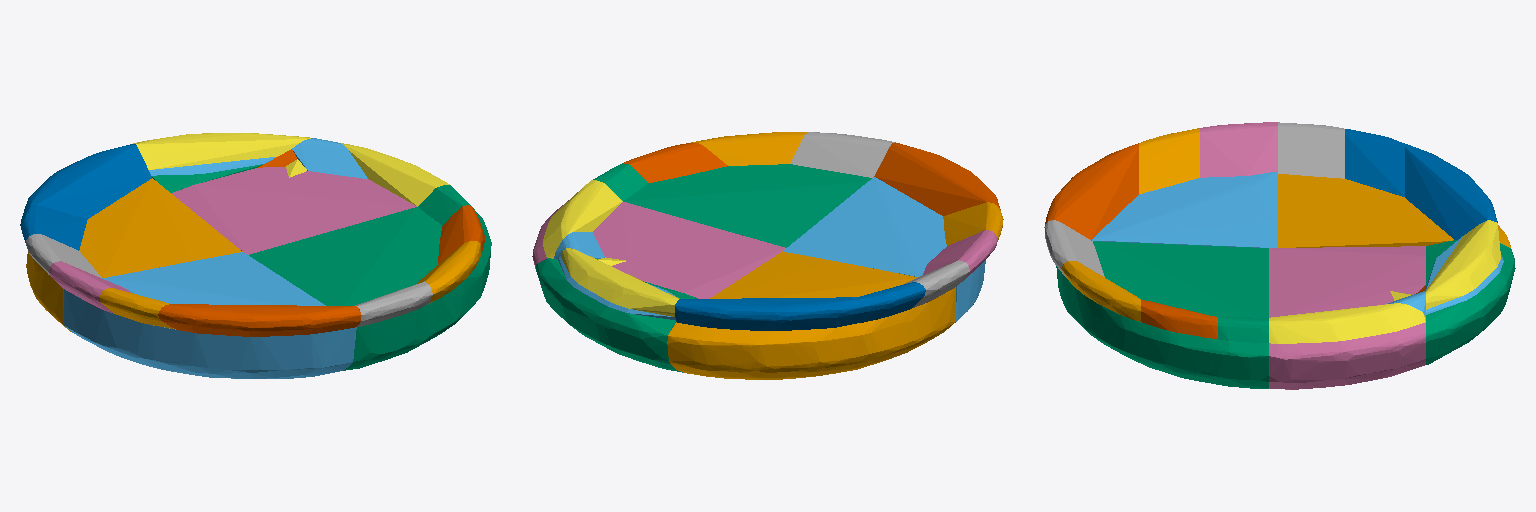
robot.urdf — root:
<?xml version='1.0' encoding='UTF-8'?>
<robot name="root">
  <link name="link_convex_piece_000.obj">
    <inertial>
      <origin xyz="0 0 0" rpy="0 0 0"/>
    </inertial>
    <visual>
      <origin xyz="0 0 0" rpy="0 0 0"/>
      <geometry>
        <mesh filename="meshes/convex_piece_000.obj" scale="1.0 1.0 1.0"/>
      </geometry>
    </visual>
    <collision>
      <origin xyz="0 0 0" rpy="0 0 0"/>
      <geometry>
        <mesh filename="meshes/convex_piece_000.obj" scale="1.0 1.0 1.0"/>
      </geometry>
    </collision>
  </link>
  <link name="link_convex_piece_001.obj">
    <inertial>
      <origin xyz="0 0 0" rpy="0 0 0"/>
    </inertial>
    <visual>
      <origin xyz="0 0 0" rpy="0 0 0"/>
      <geometry>
        <mesh filename="meshes/convex_piece_001.obj" scale="1.0 1.0 1.0"/>
      </geometry>
    </visual>
    <collision>
      <origin xyz="0 0 0" rpy="0 0 0"/>
      <geometry>
        <mesh filename="meshes/convex_piece_001.obj" scale="1.0 1.0 1.0"/>
      </geometry>
    </collision>
  </link>
  <link name="link_convex_piece_002.obj">
    <inertial>
      <origin xyz="0 0 0" rpy="0 0 0"/>
    </inertial>
    <visual>
      <origin xyz="0 0 0" rpy="0 0 0"/>
      <geometry>
        <mesh filename="meshes/convex_piece_002.obj" scale="1.0 1.0 1.0"/>
      </geometry>
    </visual>
    <collision>
      <origin xyz="0 0 0" rpy="0 0 0"/>
      <geometry>
        <mesh filename="meshes/convex_piece_002.obj" scale="1.0 1.0 1.0"/>
      </geometry>
    </collision>
  </link>
  <link name="link_convex_piece_003.obj">
    <inertial>
      <origin xyz="0 0 0" rpy="0 0 0"/>
    </inertial>
    <visual>
      <origin xyz="0 0 0" rpy="0 0 0"/>
      <geometry>
        <mesh filename="meshes/convex_piece_003.obj" scale="1.0 1.0 1.0"/>
      </geometry>
    </visual>
    <collision>
      <origin xyz="0 0 0" rpy="0 0 0"/>
      <geometry>
        <mesh filename="meshes/convex_piece_003.obj" scale="1.0 1.0 1.0"/>
      </geometry>
    </collision>
  </link>
  <link name="link_convex_piece_004.obj">
    <inertial>
      <origin xyz="0 0 0" rpy="0 0 0"/>
    </inertial>
    <visual>
      <origin xyz="0 0 0" rpy="0 0 0"/>
      <geometry>
        <mesh filename="meshes/convex_piece_004.obj" scale="1.0 1.0 1.0"/>
      </geometry>
    </visual>
    <collision>
      <origin xyz="0 0 0" rpy="0 0 0"/>
      <geometry>
        <mesh filename="meshes/convex_piece_004.obj" scale="1.0 1.0 1.0"/>
      </geometry>
    </collision>
  </link>
  <link name="link_convex_piece_005.obj">
    <inertial>
      <origin xyz="0 0 0" rpy="0 0 0"/>
    </inertial>
    <visual>
      <origin xyz="0 0 0" rpy="0 0 0"/>
      <geometry>
        <mesh filename="meshes/convex_piece_005.obj" scale="1.0 1.0 1.0"/>
      </geometry>
    </visual>
    <collision>
      <origin xyz="0 0 0" rpy="0 0 0"/>
      <geometry>
        <mesh filename="meshes/convex_piece_005.obj" scale="1.0 1.0 1.0"/>
      </geometry>
    </collision>
  </link>
  <link name="link_convex_piece_006.obj">
    <inertial>
      <origin xyz="0 0 0" rpy="0 0 0"/>
    </inertial>
    <visual>
      <origin xyz="0 0 0" rpy="0 0 0"/>
      <geometry>
        <mesh filename="meshes/convex_piece_006.obj" scale="1.0 1.0 1.0"/>
      </geometry>
    </visual>
    <collision>
      <origin xyz="0 0 0" rpy="0 0 0"/>
      <geometry>
        <mesh filename="meshes/convex_piece_006.obj" scale="1.0 1.0 1.0"/>
      </geometry>
    </collision>
  </link>
  <link name="link_convex_piece_007.obj">
    <inertial>
      <origin xyz="0 0 0" rpy="0 0 0"/>
    </inertial>
    <visual>
      <origin xyz="0 0 0" rpy="0 0 0"/>
      <geometry>
        <mesh filename="meshes/convex_piece_007.obj" scale="1.0 1.0 1.0"/>
      </geometry>
    </visual>
    <collision>
      <origin xyz="0 0 0" rpy="0 0 0"/>
      <geometry>
        <mesh filename="meshes/convex_piece_007.obj" scale="1.0 1.0 1.0"/>
      </geometry>
    </collision>
  </link>
  <link name="link_convex_piece_008.obj">
    <inertial>
      <origin xyz="0 0 0" rpy="0 0 0"/>
    </inertial>
    <visual>
      <origin xyz="0 0 0" rpy="0 0 0"/>
      <geometry>
        <mesh filename="meshes/convex_piece_008.obj" scale="1.0 1.0 1.0"/>
      </geometry>
    </visual>
    <collision>
      <origin xyz="0 0 0" rpy="0 0 0"/>
      <geometry>
        <mesh filename="meshes/convex_piece_008.obj" scale="1.0 1.0 1.0"/>
      </geometry>
    </collision>
  </link>
  <link name="link_convex_piece_009.obj">
    <inertial>
      <origin xyz="0 0 0" rpy="0 0 0"/>
    </inertial>
    <visual>
      <origin xyz="0 0 0" rpy="0 0 0"/>
      <geometry>
        <mesh filename="meshes/convex_piece_009.obj" scale="1.0 1.0 1.0"/>
      </geometry>
    </visual>
    <collision>
      <origin xyz="0 0 0" rpy="0 0 0"/>
      <geometry>
        <mesh filename="meshes/convex_piece_009.obj" scale="1.0 1.0 1.0"/>
      </geometry>
    </collision>
  </link>
  <link name="link_convex_piece_010.obj">
    <inertial>
      <origin xyz="0 0 0" rpy="0 0 0"/>
    </inertial>
    <visual>
      <origin xyz="0 0 0" rpy="0 0 0"/>
      <geometry>
        <mesh filename="meshes/convex_piece_010.obj" scale="1.0 1.0 1.0"/>
      </geometry>
    </visual>
    <collision>
      <origin xyz="0 0 0" rpy="0 0 0"/>
      <geometry>
        <mesh filename="meshes/convex_piece_010.obj" scale="1.0 1.0 1.0"/>
      </geometry>
    </collision>
  </link>
  <link name="link_convex_piece_011.obj">
    <inertial>
      <origin xyz="0 0 0" rpy="0 0 0"/>
    </inertial>
    <visual>
      <origin xyz="0 0 0" rpy="0 0 0"/>
      <geometry>
        <mesh filename="meshes/convex_piece_011.obj" scale="1.0 1.0 1.0"/>
      </geometry>
    </visual>
    <collision>
      <origin xyz="0 0 0" rpy="0 0 0"/>
      <geometry>
        <mesh filename="meshes/convex_piece_011.obj" scale="1.0 1.0 1.0"/>
      </geometry>
    </collision>
  </link>
  <link name="link_convex_piece_012.obj">
    <inertial>
      <origin xyz="0 0 0" rpy="0 0 0"/>
    </inertial>
    <visual>
      <origin xyz="0 0 0" rpy="0 0 0"/>
      <geometry>
        <mesh filename="meshes/convex_piece_012.obj" scale="1.0 1.0 1.0"/>
      </geometry>
    </visual>
    <collision>
      <origin xyz="0 0 0" rpy="0 0 0"/>
      <geometry>
        <mesh filename="meshes/convex_piece_012.obj" scale="1.0 1.0 1.0"/>
      </geometry>
    </collision>
  </link>
  <link name="link_convex_piece_013.obj">
    <inertial>
      <origin xyz="0 0 0" rpy="0 0 0"/>
    </inertial>
    <visual>
      <origin xyz="0 0 0" rpy="0 0 0"/>
      <geometry>
        <mesh filename="meshes/convex_piece_013.obj" scale="1.0 1.0 1.0"/>
      </geometry>
    </visual>
    <collision>
      <origin xyz="0 0 0" rpy="0 0 0"/>
      <geometry>
        <mesh filename="meshes/convex_piece_013.obj" scale="1.0 1.0 1.0"/>
      </geometry>
    </collision>
  </link>
  <link name="link_convex_piece_014.obj">
    <inertial>
      <origin xyz="0 0 0" rpy="0 0 0"/>
    </inertial>
    <visual>
      <origin xyz="0 0 0" rpy="0 0 0"/>
      <geometry>
        <mesh filename="meshes/convex_piece_014.obj" scale="1.0 1.0 1.0"/>
      </geometry>
    </visual>
    <collision>
      <origin xyz="0 0 0" rpy="0 0 0"/>
      <geometry>
        <mesh filename="meshes/convex_piece_014.obj" scale="1.0 1.0 1.0"/>
      </geometry>
    </collision>
  </link>
  <link name="link_convex_piece_015.obj">
    <inertial>
      <origin xyz="0 0 0" rpy="0 0 0"/>
    </inertial>
    <visual>
      <origin xyz="0 0 0" rpy="0 0 0"/>
      <geometry>
        <mesh filename="meshes/convex_piece_015.obj" scale="1.0 1.0 1.0"/>
      </geometry>
    </visual>
    <collision>
      <origin xyz="0 0 0" rpy="0 0 0"/>
      <geometry>
        <mesh filename="meshes/convex_piece_015.obj" scale="1.0 1.0 1.0"/>
      </geometry>
    </collision>
  </link>
  <link name="link_convex_piece_016.obj">
    <inertial>
      <origin xyz="0 0 0" rpy="0 0 0"/>
    </inertial>
    <visual>
      <origin xyz="0 0 0" rpy="0 0 0"/>
      <geometry>
        <mesh filename="meshes/convex_piece_016.obj" scale="1.0 1.0 1.0"/>
      </geometry>
    </visual>
    <collision>
      <origin xyz="0 0 0" rpy="0 0 0"/>
      <geometry>
        <mesh filename="meshes/convex_piece_016.obj" scale="1.0 1.0 1.0"/>
      </geometry>
    </collision>
  </link>
  <link name="link_convex_piece_017.obj">
    <inertial>
      <origin xyz="0 0 0" rpy="0 0 0"/>
    </inertial>
    <visual>
      <origin xyz="0 0 0" rpy="0 0 0"/>
      <geometry>
        <mesh filename="meshes/convex_piece_017.obj" scale="1.0 1.0 1.0"/>
      </geometry>
    </visual>
    <collision>
      <origin xyz="0 0 0" rpy="0 0 0"/>
      <geometry>
        <mesh filename="meshes/convex_piece_017.obj" scale="1.0 1.0 1.0"/>
      </geometry>
    </collision>
  </link>
  <link name="link_convex_piece_018.obj">
    <inertial>
      <origin xyz="0 0 0" rpy="0 0 0"/>
    </inertial>
    <visual>
      <origin xyz="0 0 0" rpy="0 0 0"/>
      <geometry>
        <mesh filename="meshes/convex_piece_018.obj" scale="1.0 1.0 1.0"/>
      </geometry>
    </visual>
    <collision>
      <origin xyz="0 0 0" rpy="0 0 0"/>
      <geometry>
        <mesh filename="meshes/convex_piece_018.obj" scale="1.0 1.0 1.0"/>
      </geometry>
    </collision>
  </link>
  <link name="link_convex_piece_019.obj">
    <inertial>
      <origin xyz="0 0 0" rpy="0 0 0"/>
    </inertial>
    <visual>
      <origin xyz="0 0 0" rpy="0 0 0"/>
      <geometry>
        <mesh filename="meshes/convex_piece_019.obj" scale="1.0 1.0 1.0"/>
      </geometry>
    </visual>
    <collision>
      <origin xyz="0 0 0" rpy="0 0 0"/>
      <geometry>
        <mesh filename="meshes/convex_piece_019.obj" scale="1.0 1.0 1.0"/>
      </geometry>
    </collision>
  </link>
  <link name="link_convex_piece_020.obj">
    <inertial>
      <origin xyz="0 0 0" rpy="0 0 0"/>
    </inertial>
    <visual>
      <origin xyz="0 0 0" rpy="0 0 0"/>
      <geometry>
        <mesh filename="meshes/convex_piece_020.obj" scale="1.0 1.0 1.0"/>
      </geometry>
    </visual>
    <collision>
      <origin xyz="0 0 0" rpy="0 0 0"/>
      <geometry>
        <mesh filename="meshes/convex_piece_020.obj" scale="1.0 1.0 1.0"/>
      </geometry>
    </collision>
  </link>
  <link name="link_convex_piece_021.obj">
    <inertial>
      <origin xyz="0 0 0" rpy="0 0 0"/>
    </inertial>
    <visual>
      <origin xyz="0 0 0" rpy="0 0 0"/>
      <geometry>
        <mesh filename="meshes/convex_piece_021.obj" scale="1.0 1.0 1.0"/>
      </geometry>
    </visual>
    <collision>
      <origin xyz="0 0 0" rpy="0 0 0"/>
      <geometry>
        <mesh filename="meshes/convex_piece_021.obj" scale="1.0 1.0 1.0"/>
      </geometry>
    </collision>
  </link>
  <joint name="link_convex_piece_001.obj_joint" type="fixed">
    <origin xyz="0 0 0" rpy="0 0 0"/>
    <parent link="link_convex_piece_000.obj"/>
    <child link="link_convex_piece_001.obj"/>
  </joint>
  <joint name="link_convex_piece_002.obj_joint" type="fixed">
    <origin xyz="0 0 0" rpy="0 0 0"/>
    <parent link="link_convex_piece_000.obj"/>
    <child link="link_convex_piece_002.obj"/>
  </joint>
  <joint name="link_convex_piece_003.obj_joint" type="fixed">
    <origin xyz="0 0 0" rpy="0 0 0"/>
    <parent link="link_convex_piece_000.obj"/>
    <child link="link_convex_piece_003.obj"/>
  </joint>
  <joint name="link_convex_piece_004.obj_joint" type="fixed">
    <origin xyz="0 0 0" rpy="0 0 0"/>
    <parent link="link_convex_piece_000.obj"/>
    <child link="link_convex_piece_004.obj"/>
  </joint>
  <joint name="link_convex_piece_005.obj_joint" type="fixed">
    <origin xyz="0 0 0" rpy="0 0 0"/>
    <parent link="link_convex_piece_000.obj"/>
    <child link="link_convex_piece_005.obj"/>
  </joint>
  <joint name="link_convex_piece_006.obj_joint" type="fixed">
    <origin xyz="0 0 0" rpy="0 0 0"/>
    <parent link="link_convex_piece_000.obj"/>
    <child link="link_convex_piece_006.obj"/>
  </joint>
  <joint name="link_convex_piece_007.obj_joint" type="fixed">
    <origin xyz="0 0 0" rpy="0 0 0"/>
    <parent link="link_convex_piece_000.obj"/>
    <child link="link_convex_piece_007.obj"/>
  </joint>
  <joint name="link_convex_piece_008.obj_joint" type="fixed">
    <origin xyz="0 0 0" rpy="0 0 0"/>
    <parent link="link_convex_piece_000.obj"/>
    <child link="link_convex_piece_008.obj"/>
  </joint>
  <joint name="link_convex_piece_009.obj_joint" type="fixed">
    <origin xyz="0 0 0" rpy="0 0 0"/>
    <parent link="link_convex_piece_000.obj"/>
    <child link="link_convex_piece_009.obj"/>
  </joint>
  <joint name="link_convex_piece_010.obj_joint" type="fixed">
    <origin xyz="0 0 0" rpy="0 0 0"/>
    <parent link="link_convex_piece_000.obj"/>
    <child link="link_convex_piece_010.obj"/>
  </joint>
  <joint name="link_convex_piece_011.obj_joint" type="fixed">
    <origin xyz="0 0 0" rpy="0 0 0"/>
    <parent link="link_convex_piece_000.obj"/>
    <child link="link_convex_piece_011.obj"/>
  </joint>
  <joint name="link_convex_piece_012.obj_joint" type="fixed">
    <origin xyz="0 0 0" rpy="0 0 0"/>
    <parent link="link_convex_piece_000.obj"/>
    <child link="link_convex_piece_012.obj"/>
  </joint>
  <joint name="link_convex_piece_013.obj_joint" type="fixed">
    <origin xyz="0 0 0" rpy="0 0 0"/>
    <parent link="link_convex_piece_000.obj"/>
    <child link="link_convex_piece_013.obj"/>
  </joint>
  <joint name="link_convex_piece_014.obj_joint" type="fixed">
    <origin xyz="0 0 0" rpy="0 0 0"/>
    <parent link="link_convex_piece_000.obj"/>
    <child link="link_convex_piece_014.obj"/>
  </joint>
  <joint name="link_convex_piece_015.obj_joint" type="fixed">
    <origin xyz="0 0 0" rpy="0 0 0"/>
    <parent link="link_convex_piece_000.obj"/>
    <child link="link_convex_piece_015.obj"/>
  </joint>
  <joint name="link_convex_piece_016.obj_joint" type="fixed">
    <origin xyz="0 0 0" rpy="0 0 0"/>
    <parent link="link_convex_piece_000.obj"/>
    <child link="link_convex_piece_016.obj"/>
  </joint>
  <joint name="link_convex_piece_017.obj_joint" type="fixed">
    <origin xyz="0 0 0" rpy="0 0 0"/>
    <parent link="link_convex_piece_000.obj"/>
    <child link="link_convex_piece_017.obj"/>
  </joint>
  <joint name="link_convex_piece_018.obj_joint" type="fixed">
    <origin xyz="0 0 0" rpy="0 0 0"/>
    <parent link="link_convex_piece_000.obj"/>
    <child link="link_convex_piece_018.obj"/>
  </joint>
  <joint name="link_convex_piece_019.obj_joint" type="fixed">
    <origin xyz="0 0 0" rpy="0 0 0"/>
    <parent link="link_convex_piece_000.obj"/>
    <child link="link_convex_piece_019.obj"/>
  </joint>
  <joint name="link_convex_piece_020.obj_joint" type="fixed">
    <origin xyz="0 0 0" rpy="0 0 0"/>
    <parent link="link_convex_piece_000.obj"/>
    <child link="link_convex_piece_020.obj"/>
  </joint>
  <joint name="link_convex_piece_021.obj_joint" type="fixed">
    <origin xyz="0 0 0" rpy="0 0 0"/>
    <parent link="link_convex_piece_000.obj"/>
    <child link="link_convex_piece_021.obj"/>
  </joint>
</robot>

--- Facts derived from the render (not from the file) ---
Views: 3 orthographic renders of the robot side by side, from view 1: azimuth 30°, elevation 25°; view 2: azimuth 150°, elevation 25°; view 3: azimuth 270°, elevation 25°.
Model root with 22 links and 21 joints (21 fixed), rooted at link_convex_piece_000.obj, posed every joint at zero.
Visible links, largest first — view 1: link_convex_piece_001.obj, link_convex_piece_002.obj, link_convex_piece_006.obj, link_convex_piece_000.obj, link_convex_piece_005.obj, link_convex_piece_004.obj, link_convex_piece_003.obj, link_convex_piece_011.obj, link_convex_piece_012.obj, link_convex_piece_017.obj, link_convex_piece_015.obj, link_convex_piece_016.obj (+7 smaller); view 2: link_convex_piece_000.obj, link_convex_piece_002.obj, link_convex_piece_006.obj, link_convex_piece_001.obj, link_convex_piece_018.obj, link_convex_piece_004.obj, link_convex_piece_005.obj, link_convex_piece_003.obj, link_convex_piece_015.obj, link_convex_piece_011.obj, link_convex_piece_016.obj, link_convex_piece_013.obj (+7 smaller); view 3: link_convex_piece_002.obj, link_convex_piece_006.obj, link_convex_piece_001.obj, link_convex_piece_000.obj, link_convex_piece_004.obj, link_convex_piece_005.obj, link_convex_piece_018.obj, link_convex_piece_011.obj, link_convex_piece_014.obj, link_convex_piece_003.obj, link_convex_piece_007.obj, link_convex_piece_012.obj (+6 smaller).
Boxes of the visible links, box(x1,y1,x2,y2) form: link_convex_piece_001.obj: box(63, 252, 356, 378); link_convex_piece_002.obj: box(249, 207, 491, 370); link_convex_piece_006.obj: box(171, 166, 416, 254); link_convex_piece_000.obj: box(26, 178, 242, 331); link_convex_piece_005.obj: box(158, 304, 361, 336); link_convex_piece_004.obj: box(24, 144, 151, 218); link_convex_piece_003.obj: box(133, 133, 310, 169); link_convex_piece_011.obj: box(341, 143, 449, 206); link_convex_piece_012.obj: box(20, 205, 87, 250); link_convex_piece_017.obj: box(292, 138, 367, 178); link_convex_piece_015.obj: box(355, 281, 432, 326); link_convex_piece_016.obj: box(417, 241, 480, 302); link_convex_piece_000.obj: box(667, 251, 955, 379); link_convex_piece_002.obj: box(623, 164, 871, 247); link_convex_piece_006.obj: box(532, 200, 785, 298); link_convex_piece_001.obj: box(783, 177, 985, 322); link_convex_piece_018.obj: box(536, 258, 697, 372); link_convex_piece_004.obj: box(675, 297, 869, 330); link_convex_piece_005.obj: box(874, 142, 1000, 215); link_convex_piece_003.obj: box(561, 248, 678, 316); link_convex_piece_015.obj: box(790, 132, 894, 177); link_convex_piece_011.obj: box(543, 180, 622, 258); link_convex_piece_016.obj: box(691, 132, 807, 165); link_convex_piece_013.obj: box(624, 143, 727, 182); link_convex_piece_002.obj: box(1056, 241, 1268, 388); link_convex_piece_006.obj: box(1269, 246, 1425, 389); link_convex_piece_001.obj: box(1091, 171, 1277, 247); link_convex_piece_000.obj: box(1278, 174, 1510, 247); link_convex_piece_004.obj: box(1405, 144, 1497, 239); link_convex_piece_005.obj: box(1045, 143, 1138, 239); link_convex_piece_018.obj: box(1426, 240, 1515, 364); link_convex_piece_011.obj: box(1269, 303, 1425, 343); link_convex_piece_014.obj: box(1200, 122, 1277, 177); link_convex_piece_003.obj: box(1426, 220, 1500, 309); link_convex_piece_007.obj: box(1278, 122, 1344, 178); link_convex_piece_012.obj: box(1345, 129, 1404, 196).
Size in the robot's own frame: 1.41 by 1.4 by 0.3216 metres.
Meshes: 22 distinct files referenced, 21 mesh visuals loaded (21 OBJ); not drawn: 1 (reference not matched to a file when rendering).
